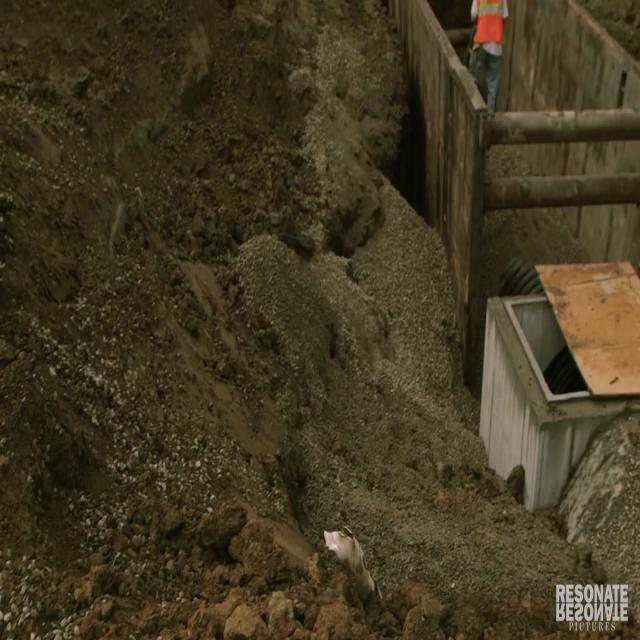Reflective-Jacket: (468, 0, 511, 60)
